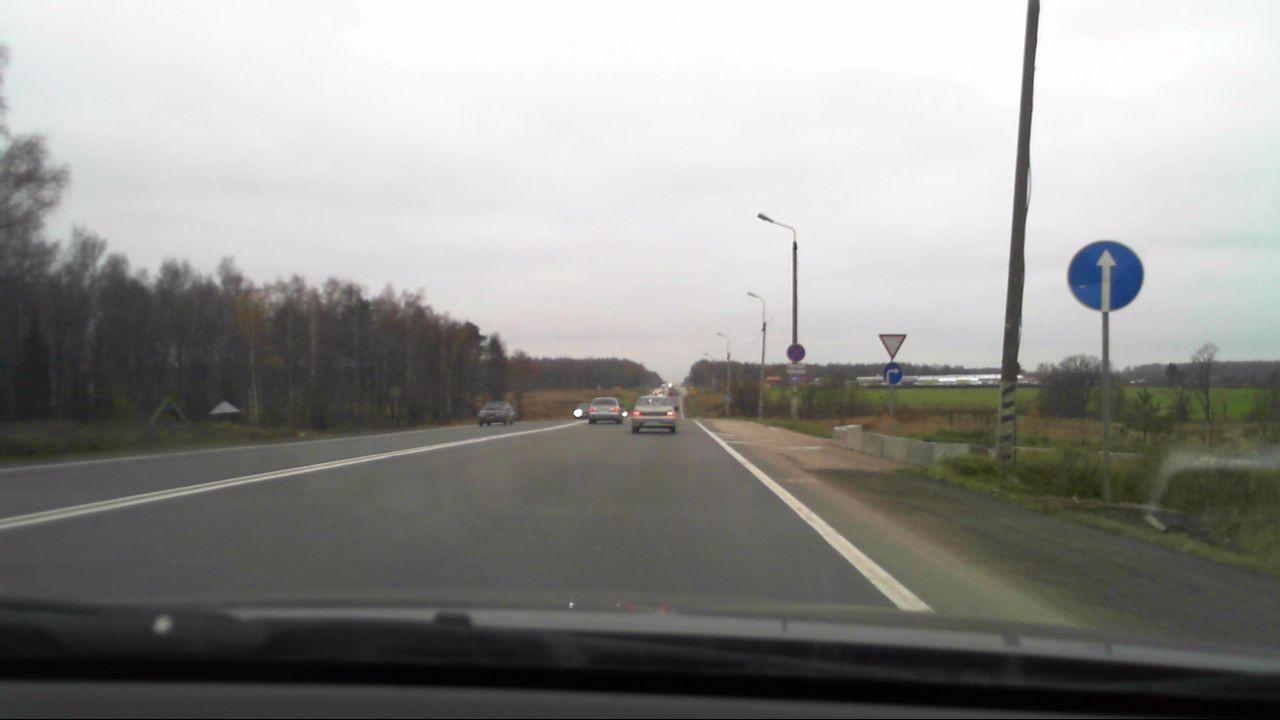2_4: (876, 333, 908, 358)
3_27: (786, 343, 806, 361)
4_1_1: (1068, 237, 1145, 313)
4_1_2: (879, 361, 907, 387)
8_2_1: (785, 363, 808, 376)
